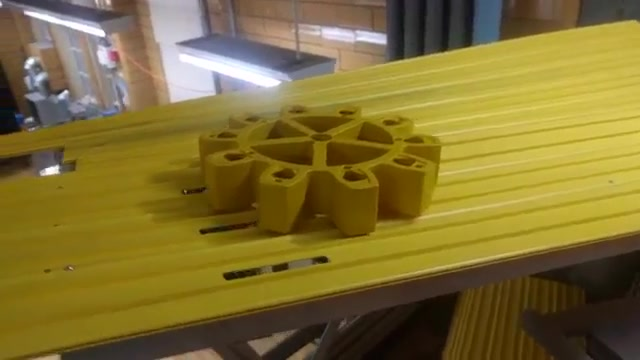gear: (194, 95, 442, 232)
